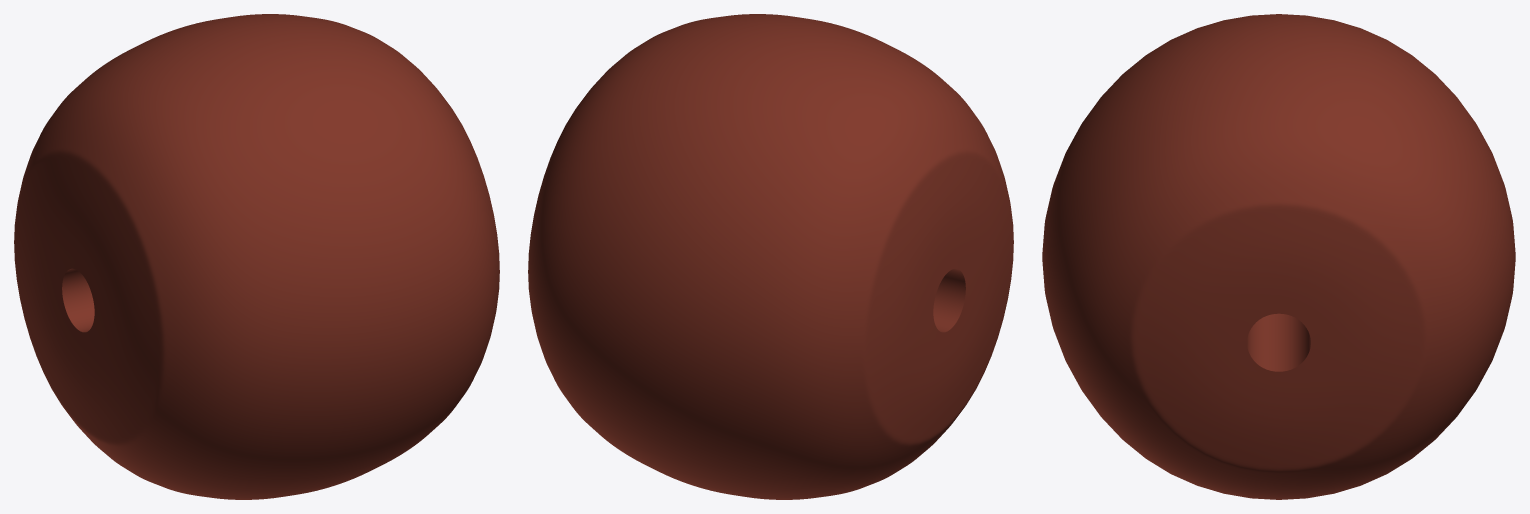
The model's file is 红玛瑙.glb.
3 renders of one model, left to right at view 1: azimuth 30°, elevation 25°; view 2: azimuth 150°, elevation 25°; view 3: azimuth 270°, elevation 25°, orthographic.
Visible parts, largest first — view 1: JewelCAD_2; view 2: JewelCAD_2; view 3: JewelCAD_2.
Part boxes in pixels (<box>): JewelCAD_2: <box>14,14,499,499</box>; JewelCAD_2: <box>528,14,1013,499</box>; JewelCAD_2: <box>1042,14,1515,499</box>.
Size of the model in its own units: 0.006 by 0.007 by 0.007.
